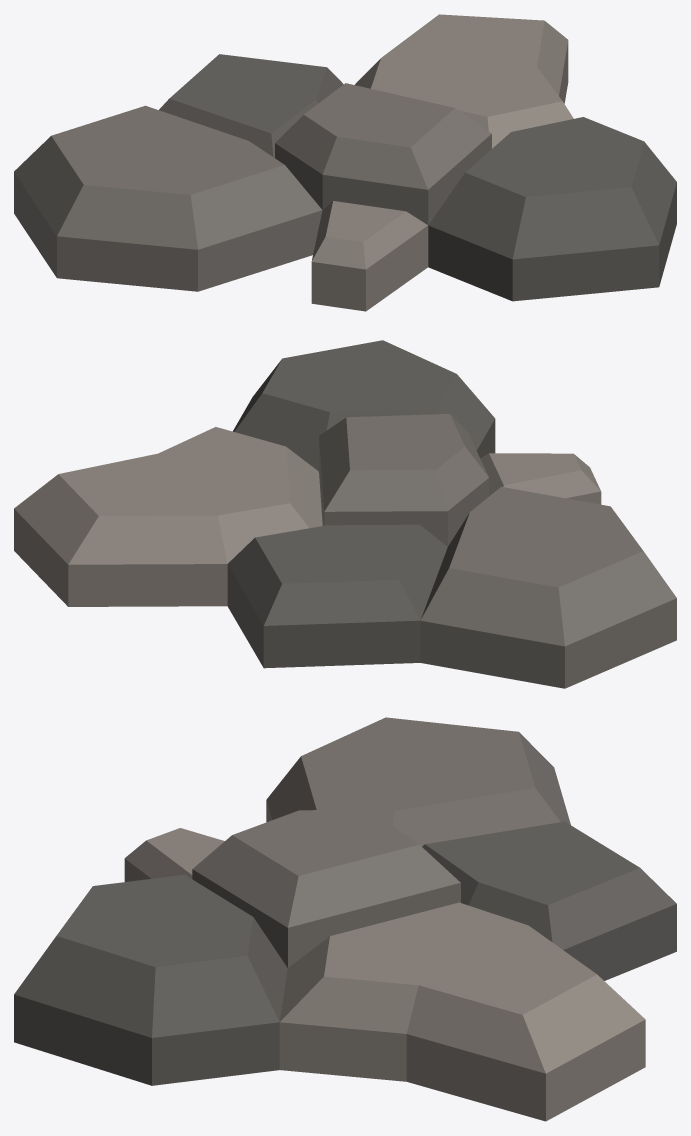
Rendered from flatrock6.fbx.
3 renders of one model, top to bottom at view 1: azimuth 30°, elevation 25°; view 2: azimuth 150°, elevation 25°; view 3: azimuth 270°, elevation 25°, orthographic. The views are drawn at different scales.
Visible parts, largest first — view 1: FlatRock6; view 2: FlatRock6; view 3: FlatRock6.
Boxes of the visible parts, bbox=[...] form: FlatRock6: bbox=[14, 14, 676, 311]; FlatRock6: bbox=[14, 340, 676, 688]; FlatRock6: bbox=[14, 717, 676, 1121].
Bounding box in the file's own units: 3.03 × 0.53 × 2.61.
